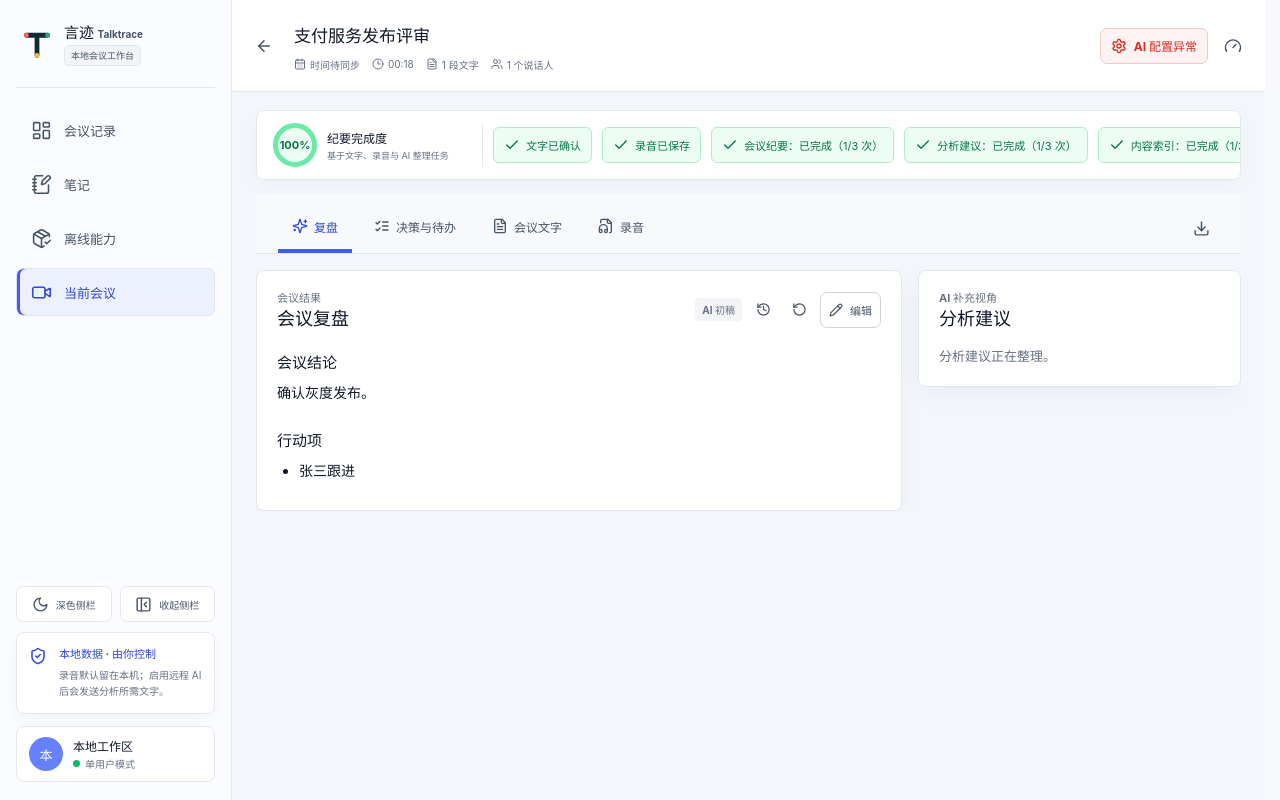
Test: LiveMeetingWorkbench › shows the four-tab review and saved recording after meeting end
The image size is (1280, 800).
Expected: the tab "复盘" is shown, [278,201,352,253]
Expected: the heading "支付服务发布评审" is shown, [294,26,430,46]
Click the tab "决策与待办": click(415, 227) [360,201,470,253]
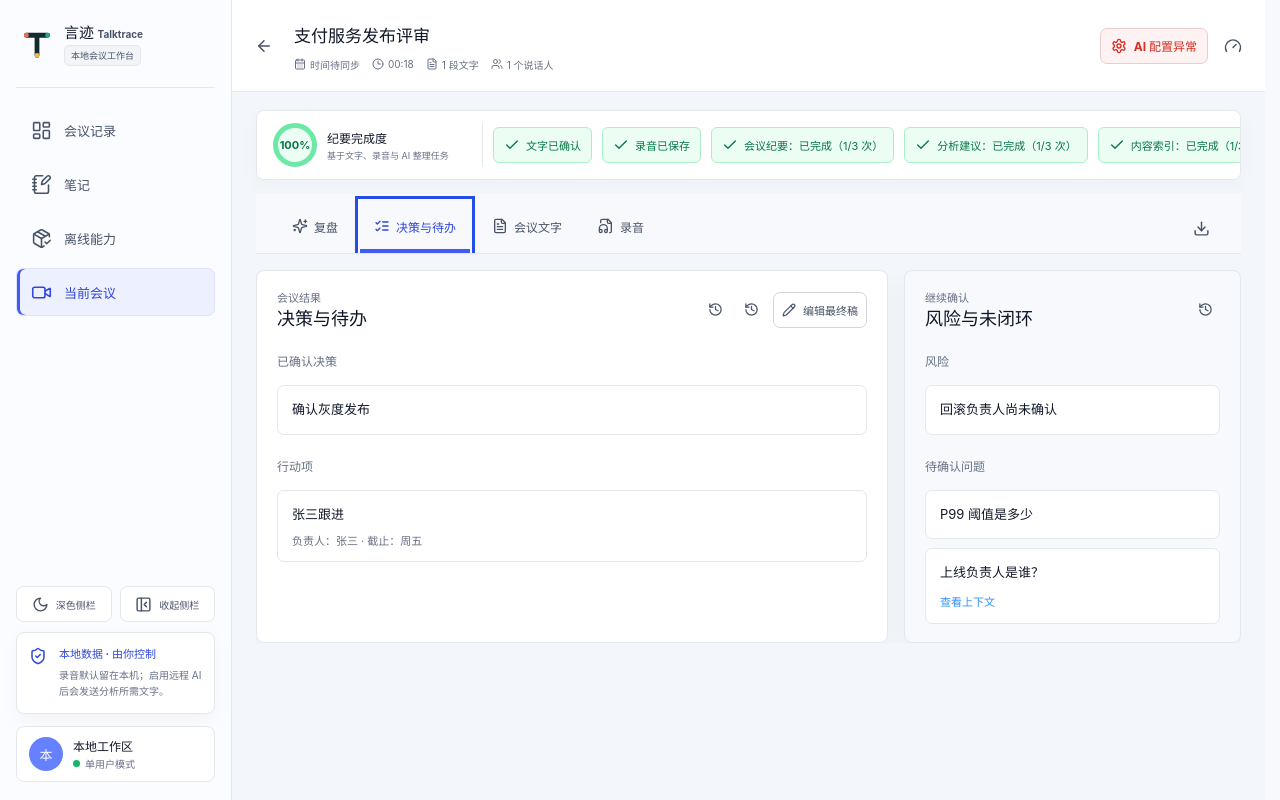
Result: the heading "决策与待办" is shown at [277,307,367,330]
Result: the text "负责人：张三 · 截止：周五" is shown at [292,534,422,548]
Result: the text "回滚负责人尚未确认" is shown at [940,401,1057,417]
Click the button named "导出会议": click(1201, 228) [1183,210,1219,246]
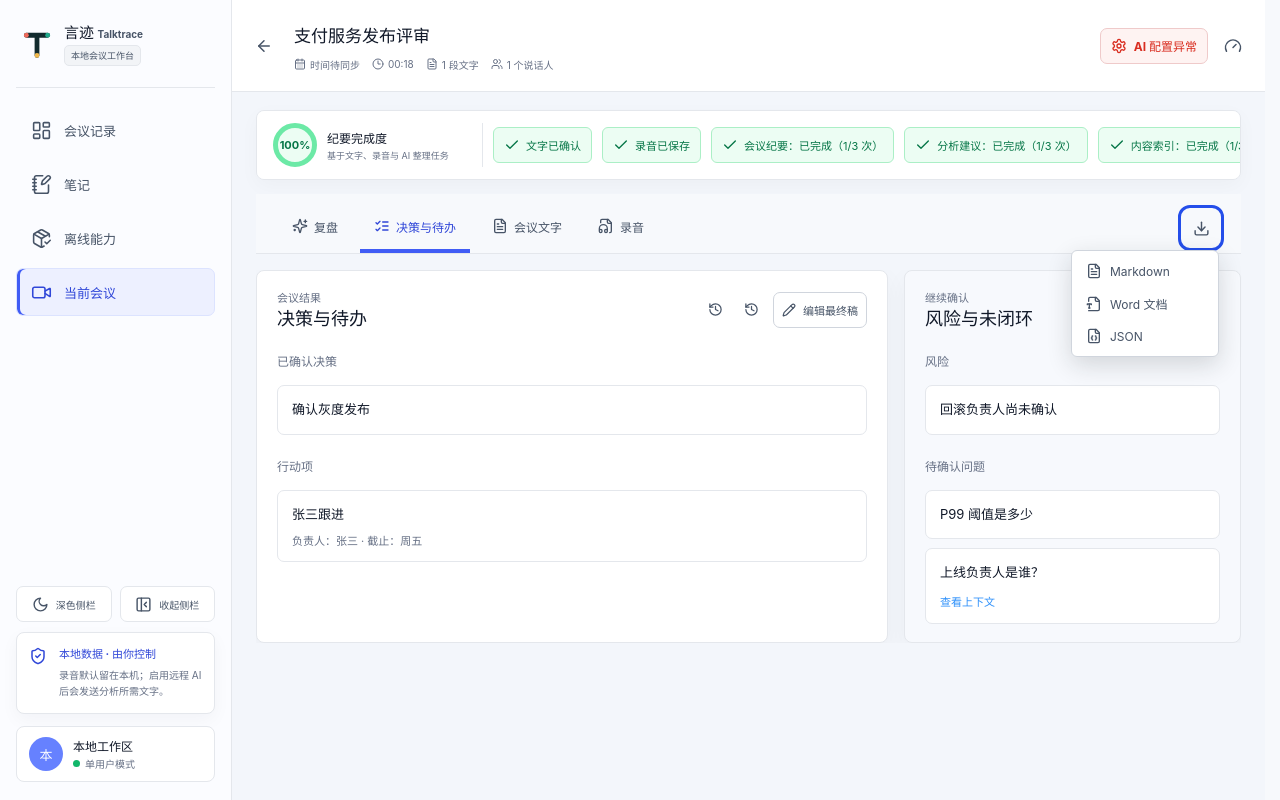
Click the menu item "JSON": click(1145, 336) [1076,320,1214,352]
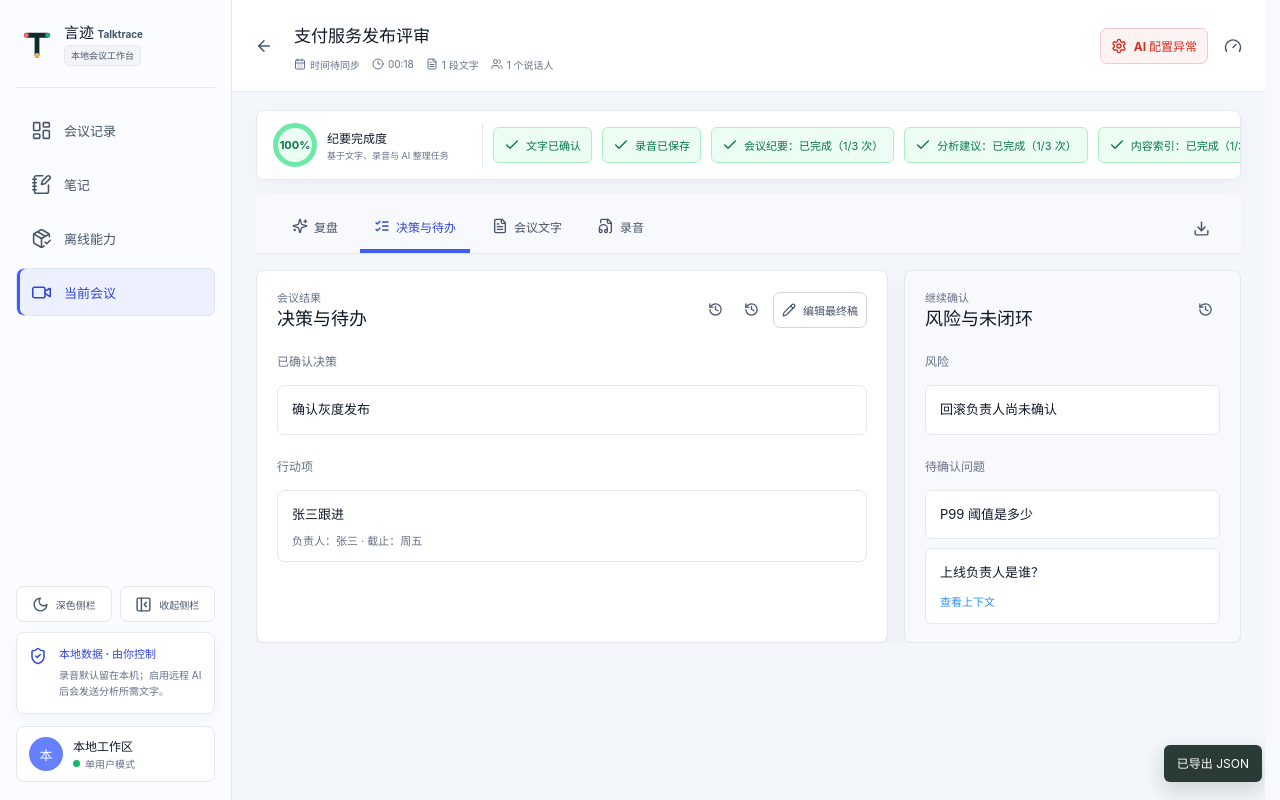
Result: the text "已导出 JSON" is shown at [1164,745,1262,782]
Click the button named "返回会议列表": click(264, 46) [246,28,282,64]
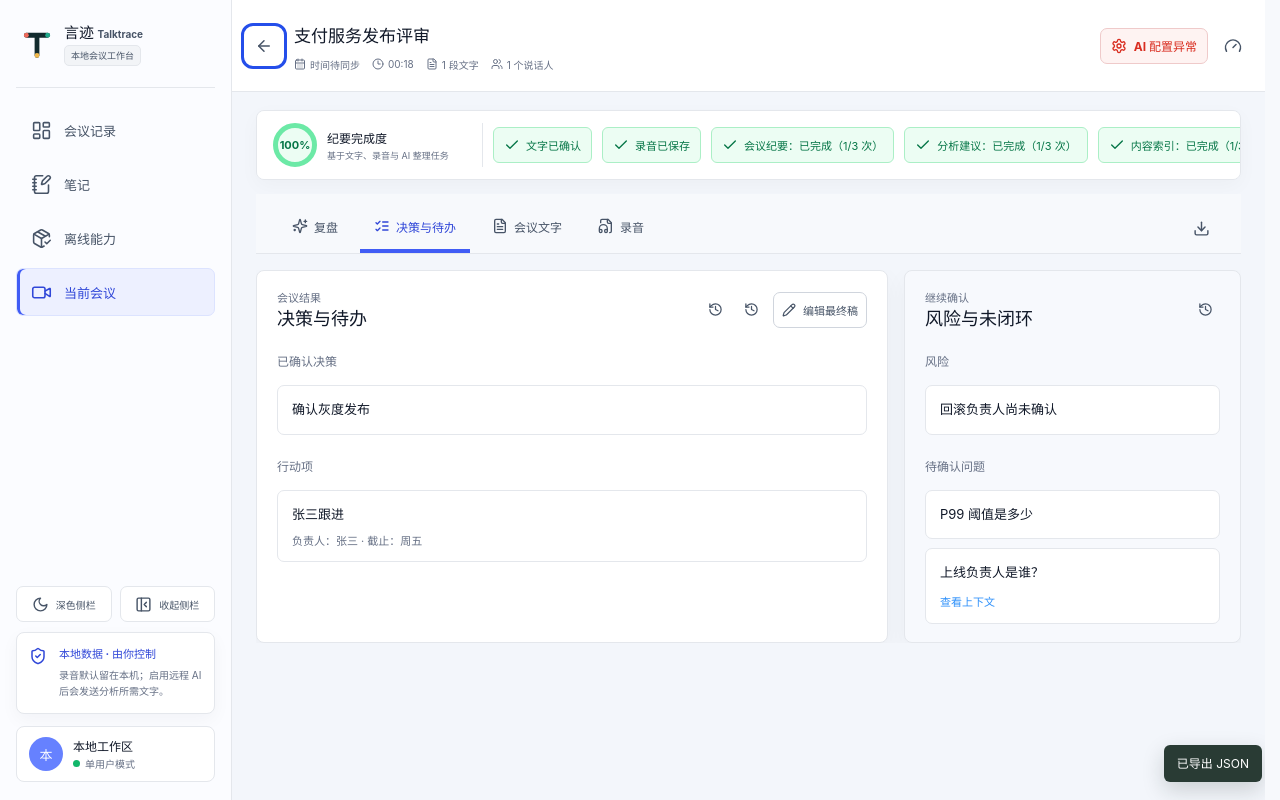
Click the tab "会议文字": click(527, 227) [478,201,576,253]
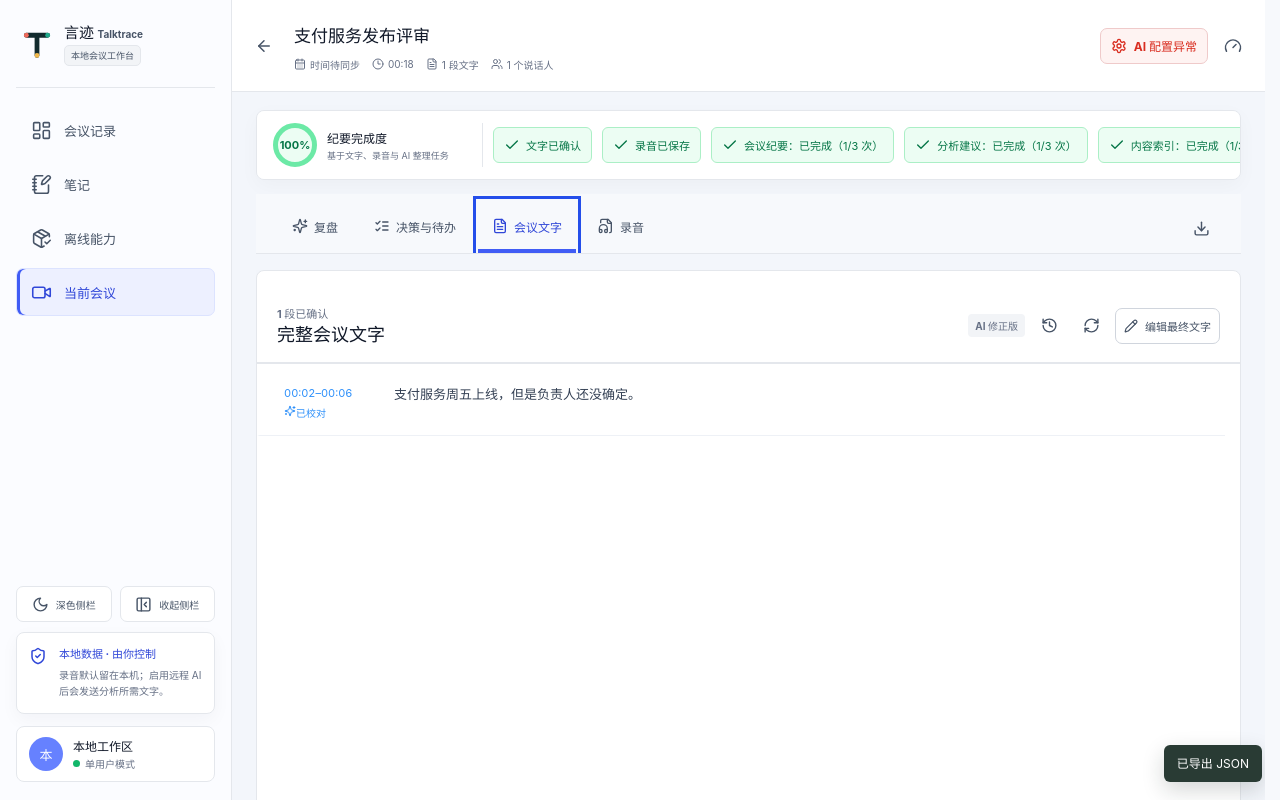
Click the button named "在录音中定位到": click(318, 393) [284,386,352,400]
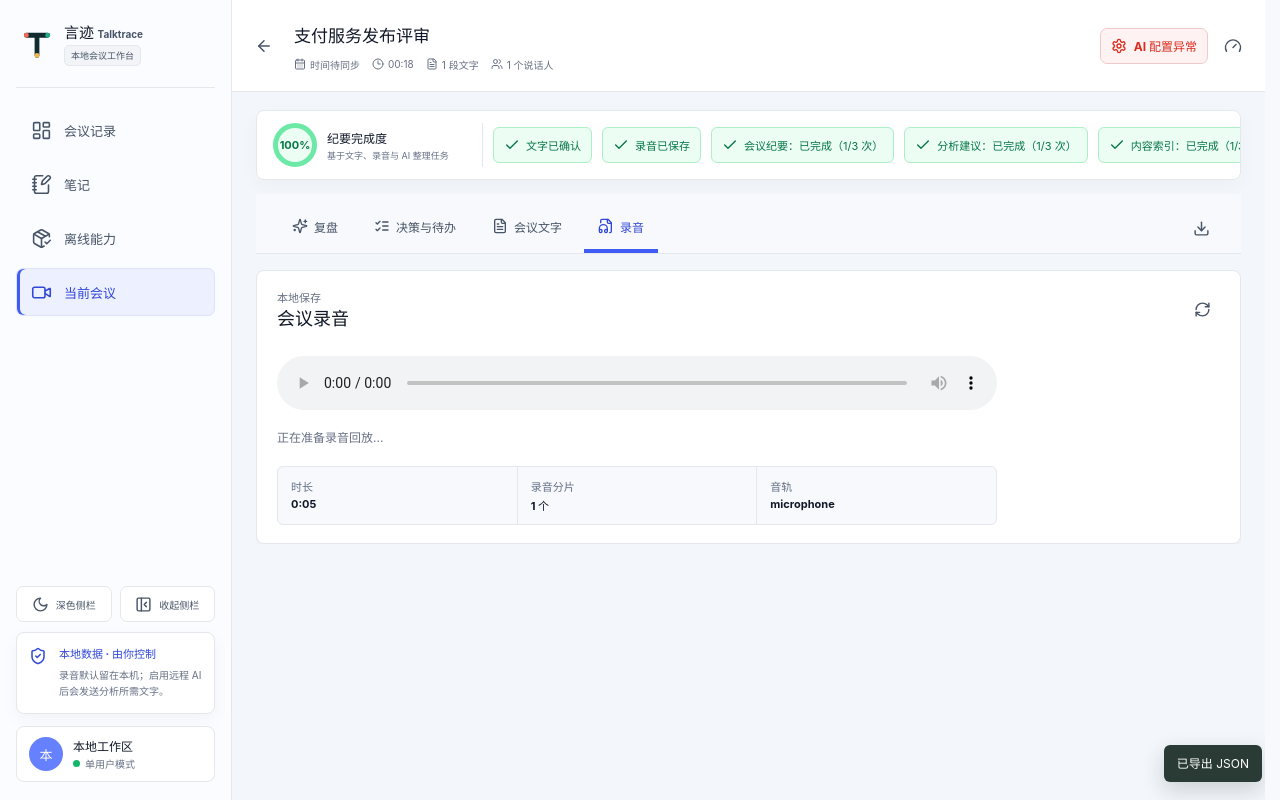
Result: the text "录音分片" is shown at [531,480,575,494]
